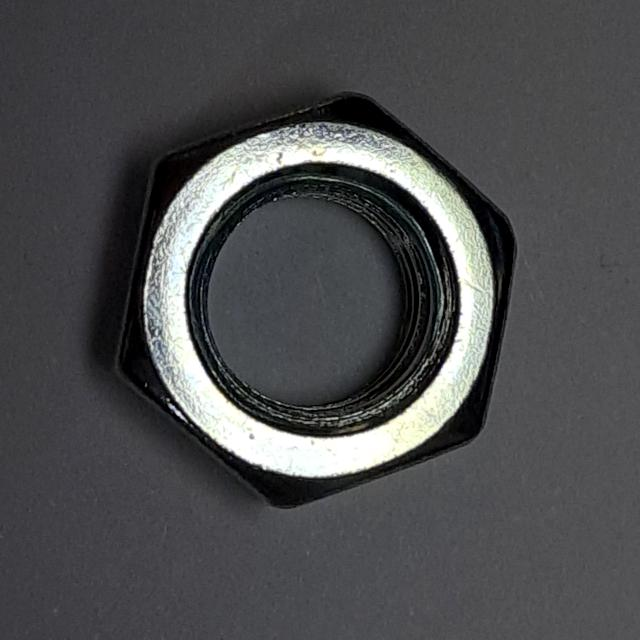Excellent: (100, 83, 522, 522)
